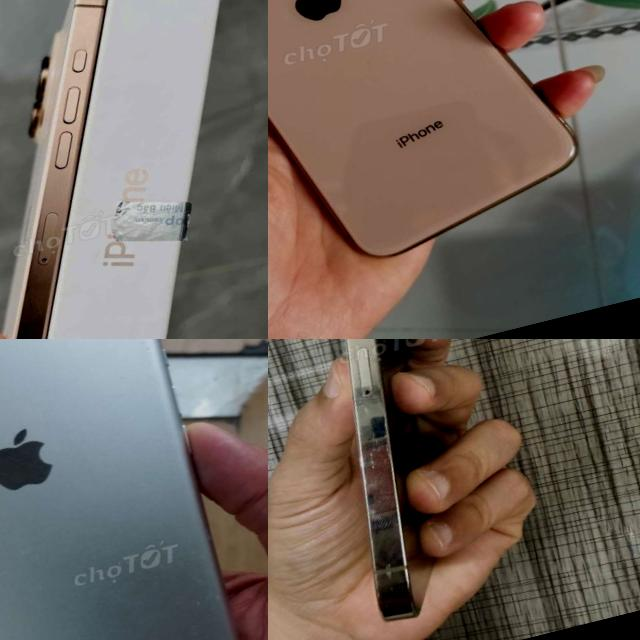gen_14: (268, 339, 469, 627)
gen_16: (0, 0, 215, 339)
gen_7_8: (0, 339, 237, 640)
gen_x_xs: (268, 0, 576, 255)
scratch: (338, 385, 398, 488), (356, 492, 404, 590), (173, 562, 233, 634), (140, 339, 180, 368)
